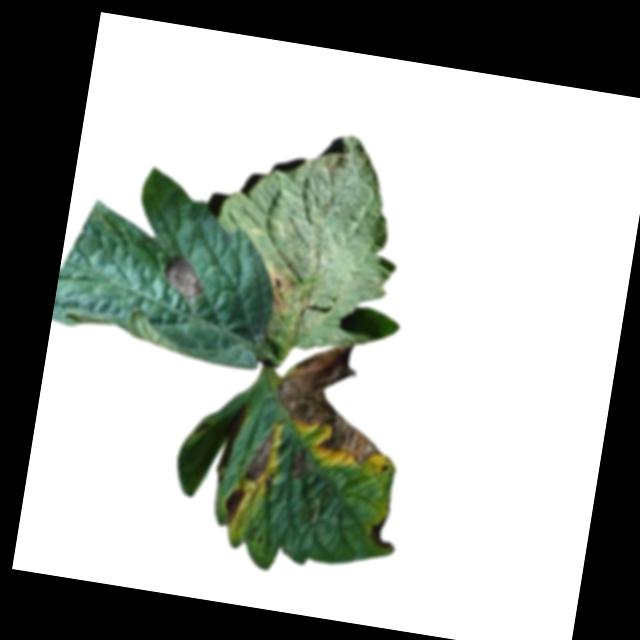Early_blight: (273, 335, 396, 471), (157, 252, 206, 302), (241, 425, 276, 489), (262, 272, 295, 318), (364, 513, 398, 553), (220, 482, 247, 527), (282, 447, 312, 483)
